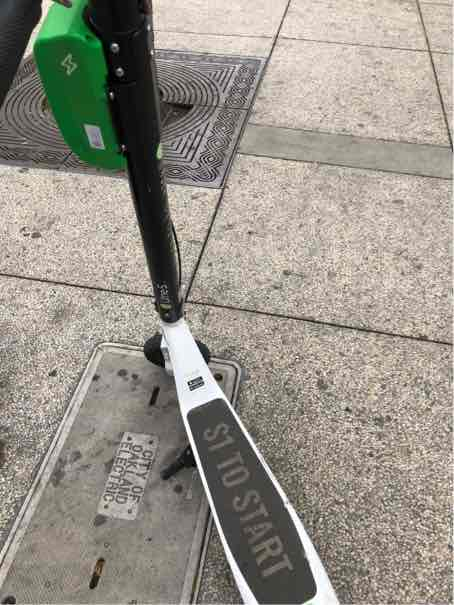scooter: (5, 11, 404, 605)
